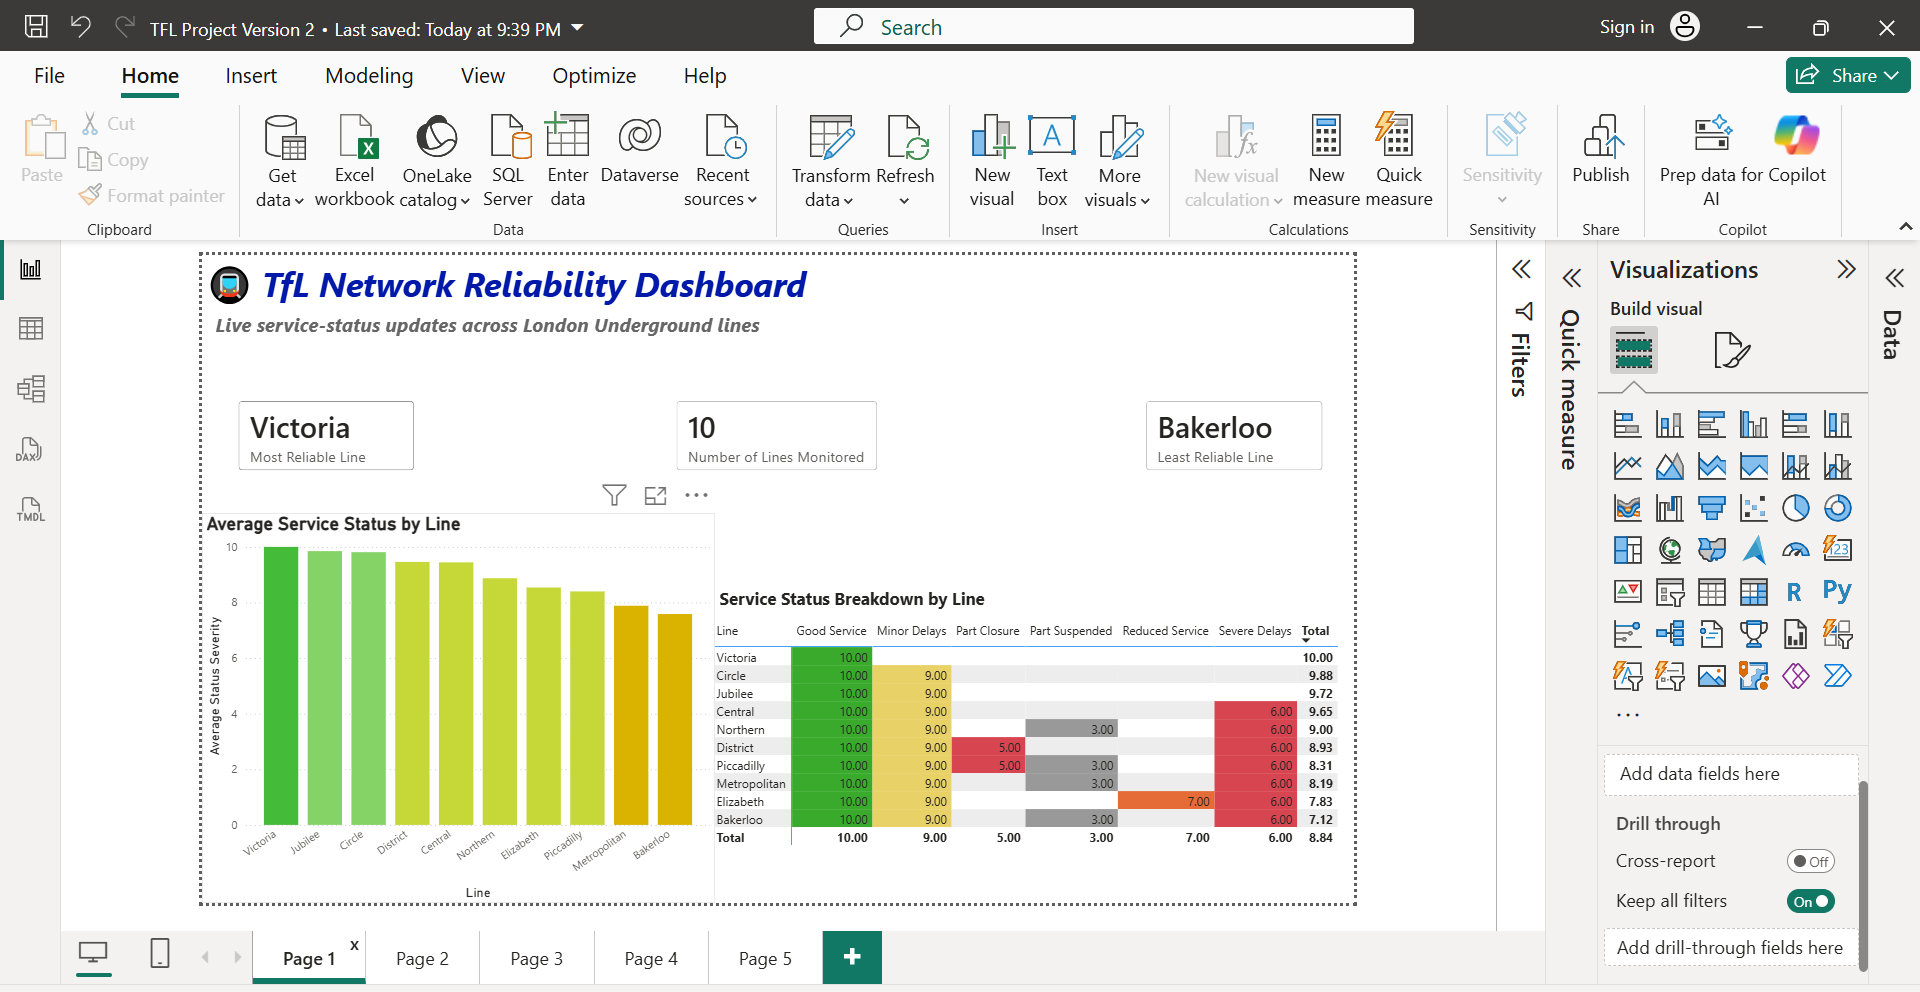

Layout of this report page (visuals, bound fields, positions):
{"tool":"powerbi","page":{"name":"Page 1","canvas":[1280,720],"ordinal":0},"visuals":[{"type":"textbox","box":[0,2,1224,62],"z":0},{"type":"textbox","box":[10,56,630,42],"z":1000},{"type":"pivotTable","fields":{"Rows":["lines.line_name"],"Values":["Avg(line_status.status_severity)"],"Columns":["line_status.status_desc"]},"box":[561.5,400.8,719,319.7],"z":2000},{"type":"cardVisual","fields":{"Data":["reliability_summary.Most Reliable Line"]},"box":[23.9,144.7,229,111.3],"z":3000},{"type":"cardVisual","fields":{"Data":["reliability_summary.Least Reliable Line"]},"box":[1032.3,144.7,230.6,111.3],"z":4000},{"type":"cardVisual","fields":{"Data":["CountNonNull(lines.line_name)"]},"box":[510.6,144.7,257.7,111.3],"z":5000},{"type":"clusteredColumnChart","title":"Average Service Status by Line","fields":{"Category":["lines.line_name"],"Y":["Avg(reliability_summary.avg_severity)"]},"box":[0,286.3,569.4,434.2],"z":6000},{"type":"textbox","box":[569.4,362.7,386.5,38.2],"z":7000}]}

Visuals, with their boxes on the page's 1280x720 design canvas (x1, y1, x2, y2). These are canvas units, not pixel positions in the 1920x992 screenshot, which may show the page scaled, cropped or inside an application window:
textbox: box=[0, 2, 1224, 64]
textbox: box=[10, 56, 640, 98]
pivotTable - lines.line_name x Avg(line_status.status_severity): box=[562, 401, 1280, 720]
cardVisual - reliability_summary.Most Reliable Line: box=[24, 145, 253, 256]
cardVisual - reliability_summary.Least Reliable Line: box=[1032, 145, 1263, 256]
cardVisual - CountNonNull(lines.line_name): box=[511, 145, 768, 256]
"Average Service Status by Line" clusteredColumnChart: box=[0, 286, 569, 720]
textbox: box=[569, 363, 956, 401]
